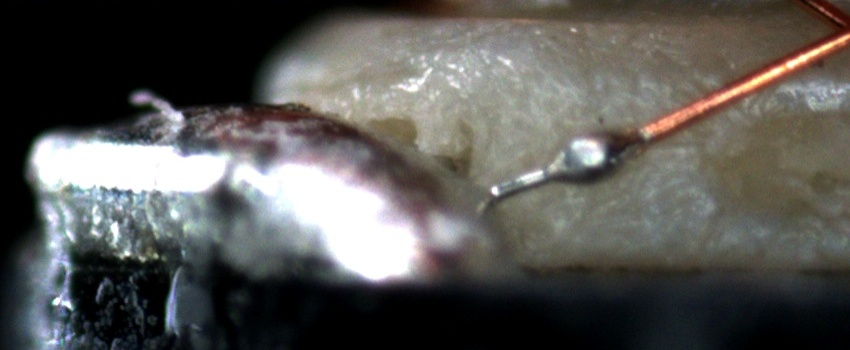CL: (810, 5, 849, 54)
DL: (558, 74, 850, 105), (630, 133, 713, 163)
TB: (538, 124, 642, 186)
TS: (490, 128, 648, 201)
TTCW: (483, 104, 697, 211)
